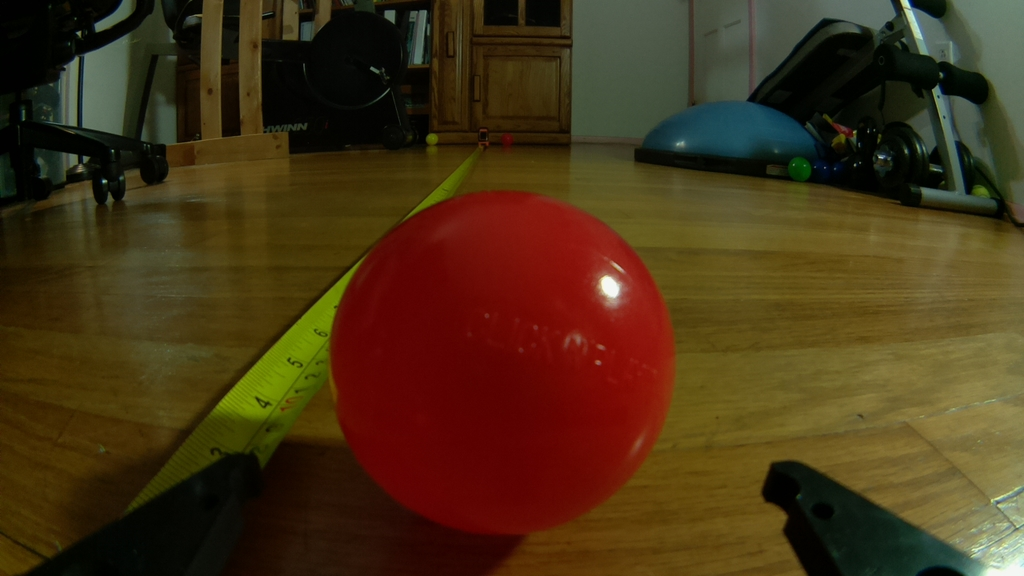ball: (496, 130, 515, 144)
